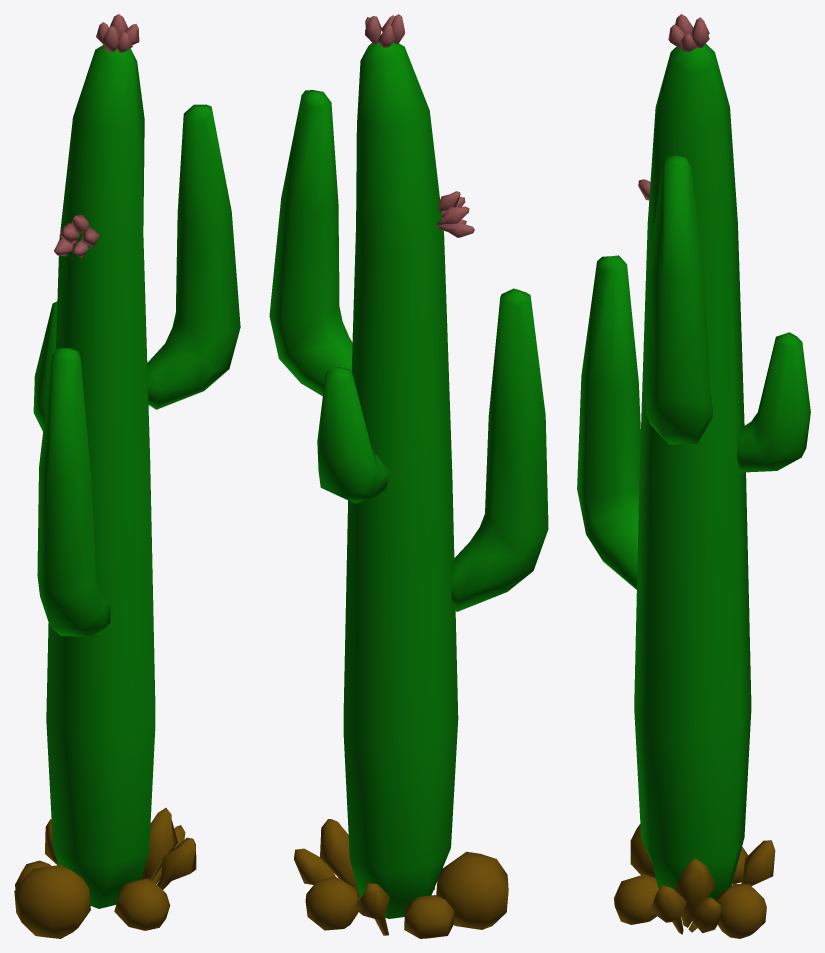
File: Cactus_Tall_01.fbx
3 views of the same model, side by side, from view 1: azimuth 30°, elevation 25°; view 2: azimuth 150°, elevation 25°; view 3: azimuth 270°, elevation 25° (orthographic).
Parts seen in each view (by area): view 1: Cactus_Tall_01; view 2: Cactus_Tall_01; view 3: Cactus_Tall_01.
Part boxes in pixels (x1,y1,x2,y2): Cactus_Tall_01: (14,14,240,938); Cactus_Tall_01: (269,14,548,938); Cactus_Tall_01: (577,14,810,938).
Bounding box in the file's own units: 0.8403 × 3.14 × 0.7367.
